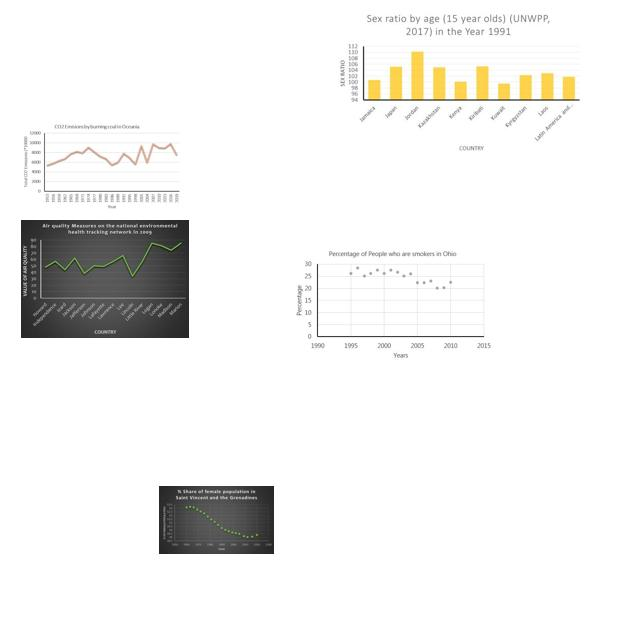Graph: (334, 9, 584, 154), (291, 246, 495, 363), (21, 220, 189, 338), (21, 120, 181, 211), (159, 486, 274, 554)
